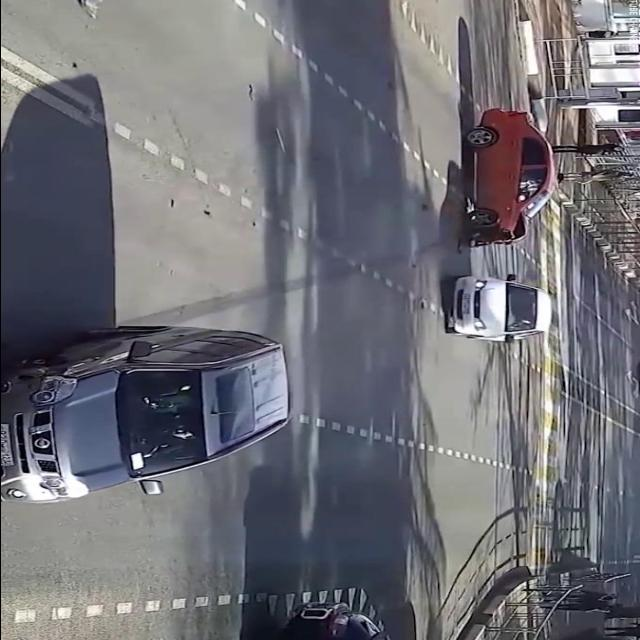accident: (0, 300, 313, 517), (449, 102, 567, 260)
